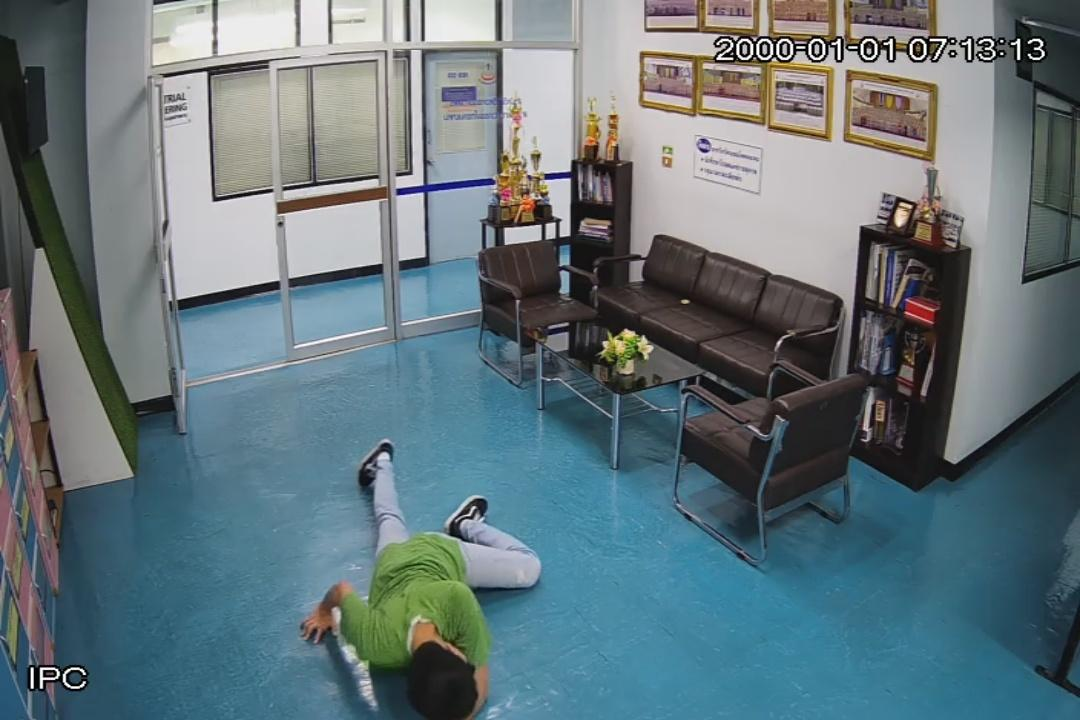fall: (299, 440, 544, 720)
